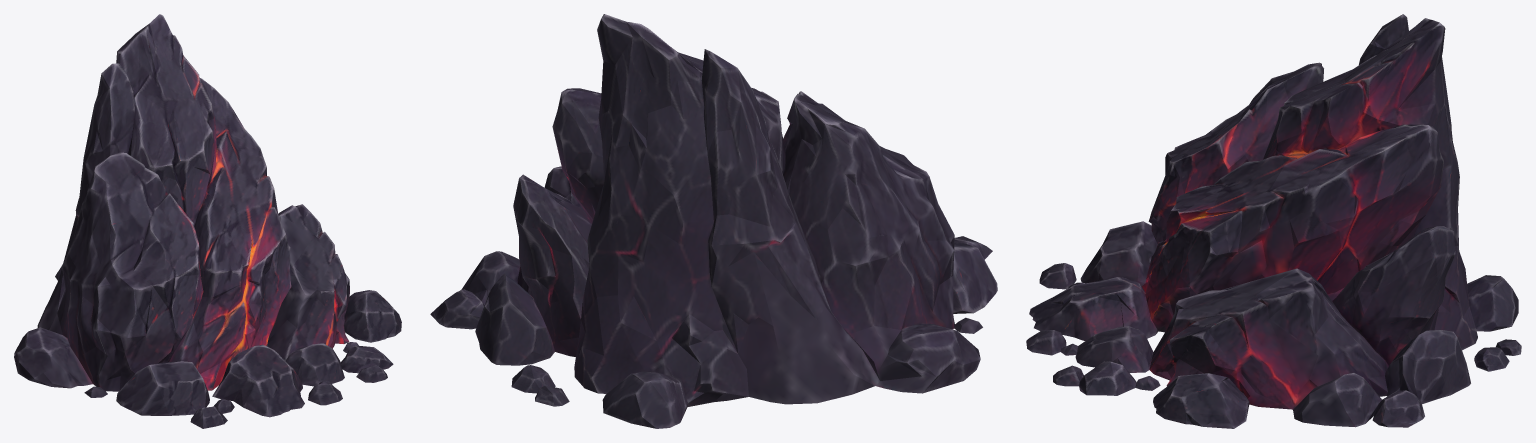
File: rock_demon.glb
3 views of the same model, side by side, from view 1: azimuth 30°, elevation 25°; view 2: azimuth 150°, elevation 25°; view 3: azimuth 270°, elevation 25° (orthographic). The views are drawn at different scales.
Parts seen in each view (by area): view 1: output_unwrapped; view 2: output_unwrapped; view 3: output_unwrapped.
Boxes of the visible parts, x1=… form: output_unwrapped: x1=14, y1=14, x2=401, y2=428; output_unwrapped: x1=430, y1=14, x2=997, y2=428; output_unwrapped: x1=1026, y1=14, x2=1521, y2=428.
Bounding box in the file's own units: 1.84 × 1.34 × 1.87.
1 material, 1 textured.
